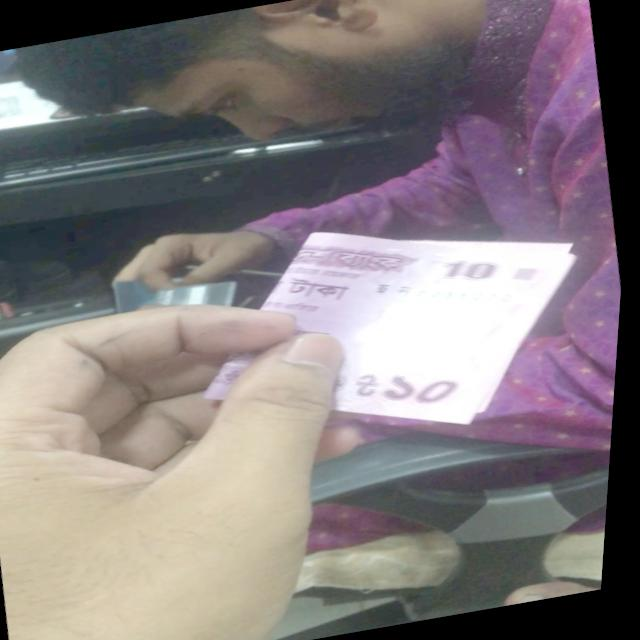Taka: (195, 192, 596, 461)
